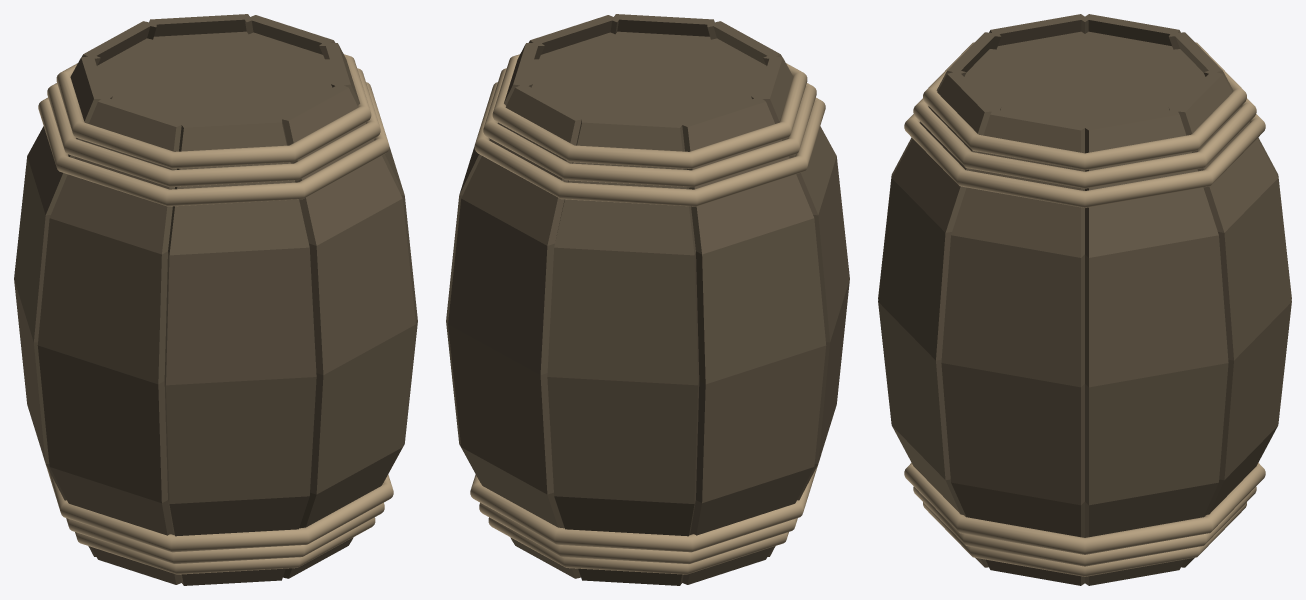
The model's file is barrel.fbx.
3 views of the same model, side by side, from view 1: azimuth 30°, elevation 25°; view 2: azimuth 150°, elevation 25°; view 3: azimuth 270°, elevation 25° (orthographic).
Visible parts, largest first — view 1: barrel; view 2: barrel; view 3: barrel.
Boxes of the visible parts, box(x1,y1,x2,y2) form: barrel: box(14, 14, 417, 585); barrel: box(446, 14, 849, 585); barrel: box(878, 14, 1291, 585).
Bounding box in the file's own units: 134 × 163 × 134.
